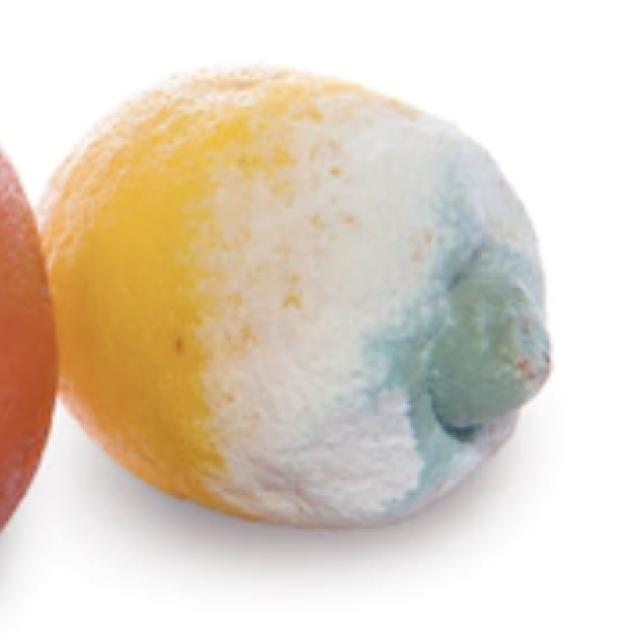sangat_busuk: (34, 57, 545, 519)
sedikit_busuk: (0, 146, 54, 528)
